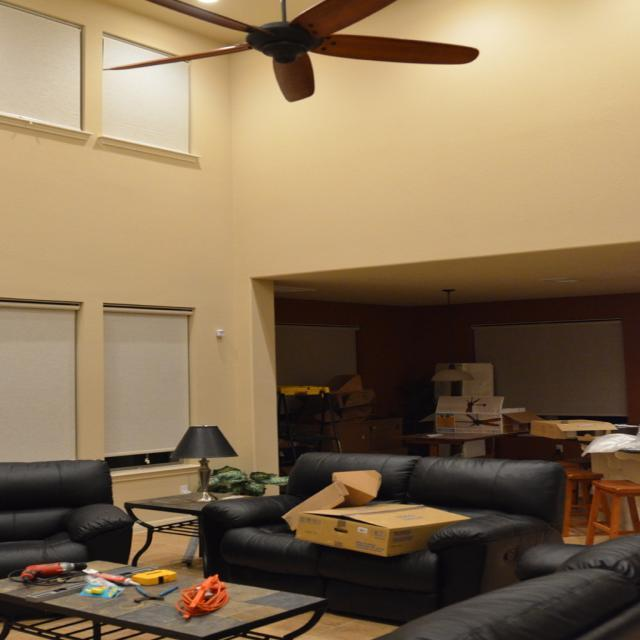fan_off: (102, 0, 482, 104), (457, 414, 500, 428), (466, 397, 481, 416)
